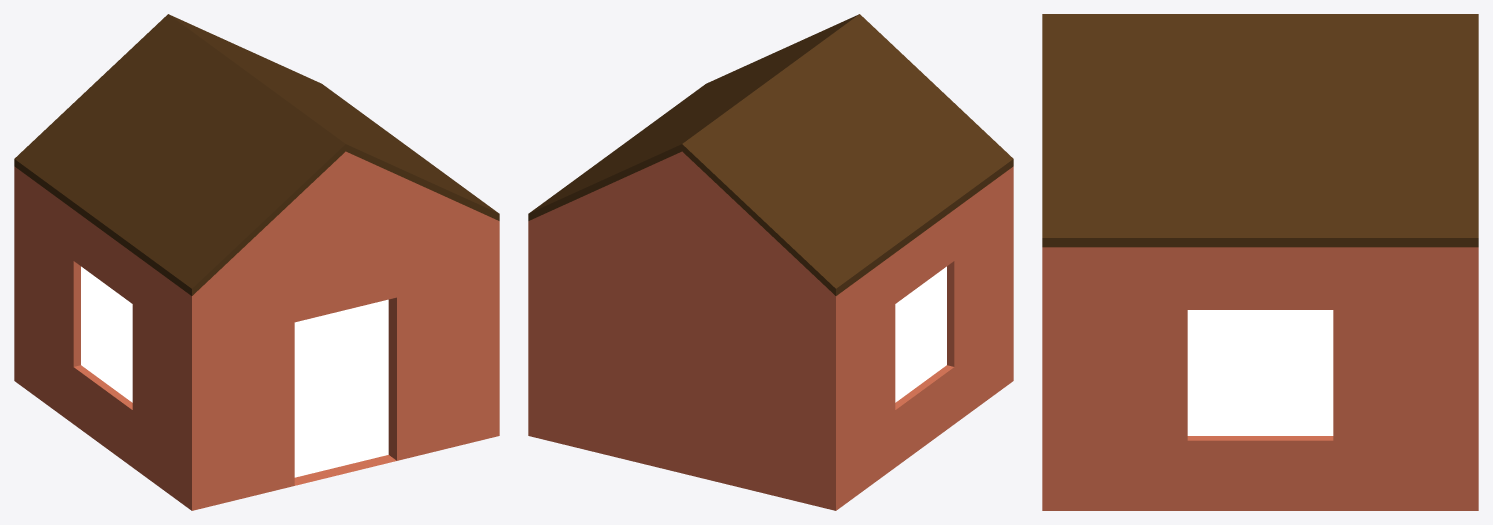
Rendered from house.glb.
The picture shows the model from 3 angles, left to right: view 1: azimuth 30°, elevation 25°; view 2: azimuth 150°, elevation 25°; view 3: azimuth 270°, elevation 25°; orthographic projection. The views are drawn at different scales.
Parts seen in each view (by area): view 1: house-col; view 2: house-col; view 3: house-col.
Boxes of the visible parts, <box> form: house-col: <box>14,14,499,510</box>; house-col: <box>528,14,1013,510</box>; house-col: <box>1042,14,1478,510</box>.
Bounding box in the file's own units: 3 × 3.07 × 3.
